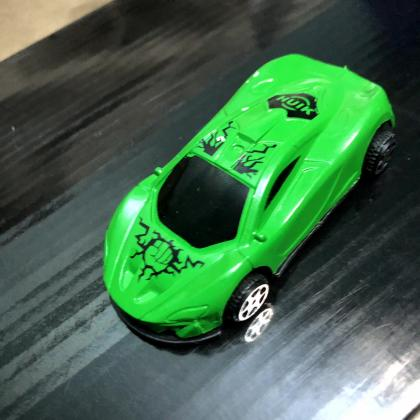Car: (102, 54, 397, 349)
